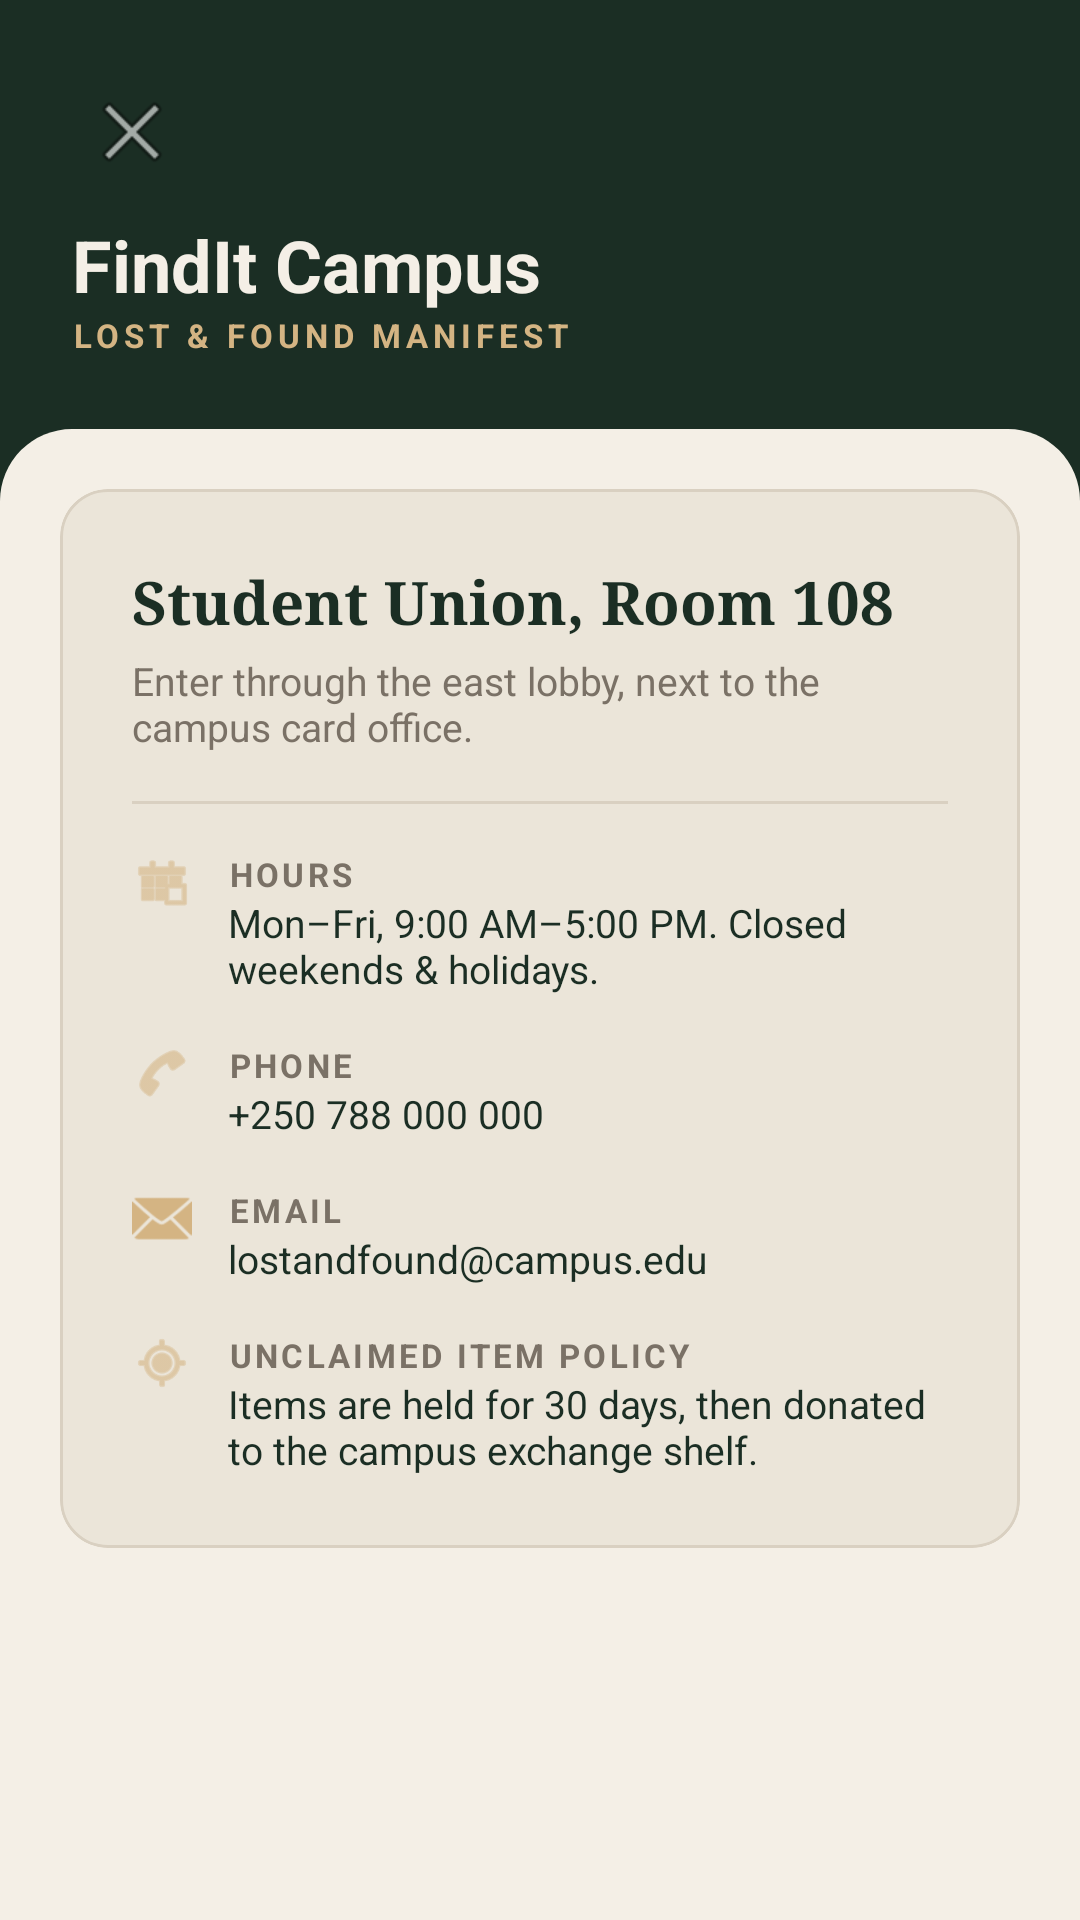

Icon click points for this 1080 × 1920 phone screenshot, format (x=x, y=y):
call: (x=162, y=1073)
mylocation: (x=162, y=1363)
today: (x=162, y=883)
